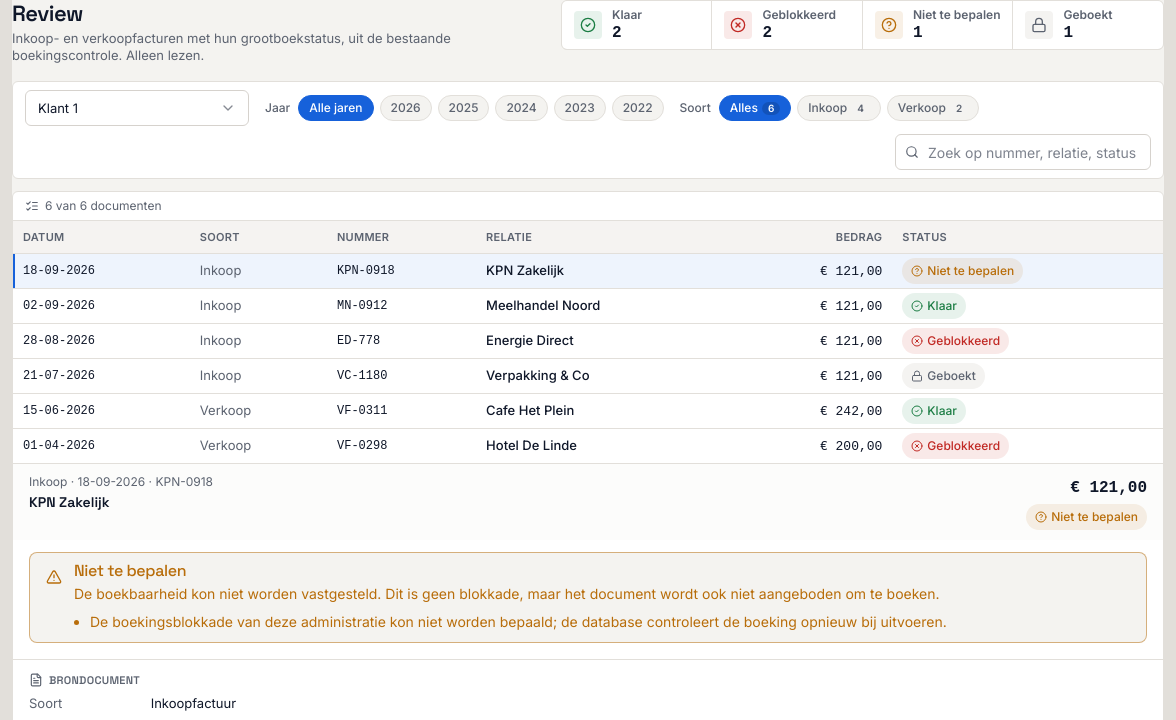
Scenario: Review — het paneel volgt de gefilterde wachtrij › 10. statusfilter: een weggefilterde selectie wijkt voor het eerste zichtbare document
Click the button "Meelhandel Noord". click: (605, 306)
box: x1=486 y1=296 x2=724 y2=316
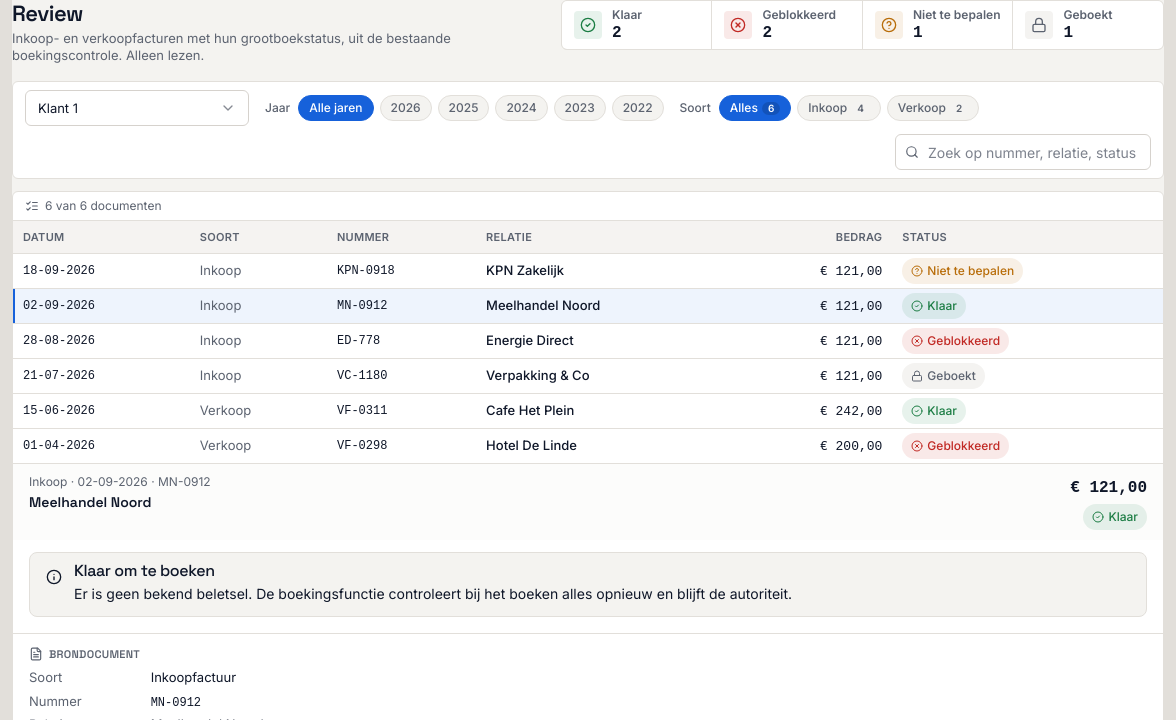
Expected: the element with test id "review-detail" shows "Meelhandel Noord", x1=29 y1=493 x2=152 y2=511
Click the button with test id "review-counter-geblokkeerd". click: (787, 25)
box: x1=712 y1=1 x2=862 y2=49
(page scrolled)
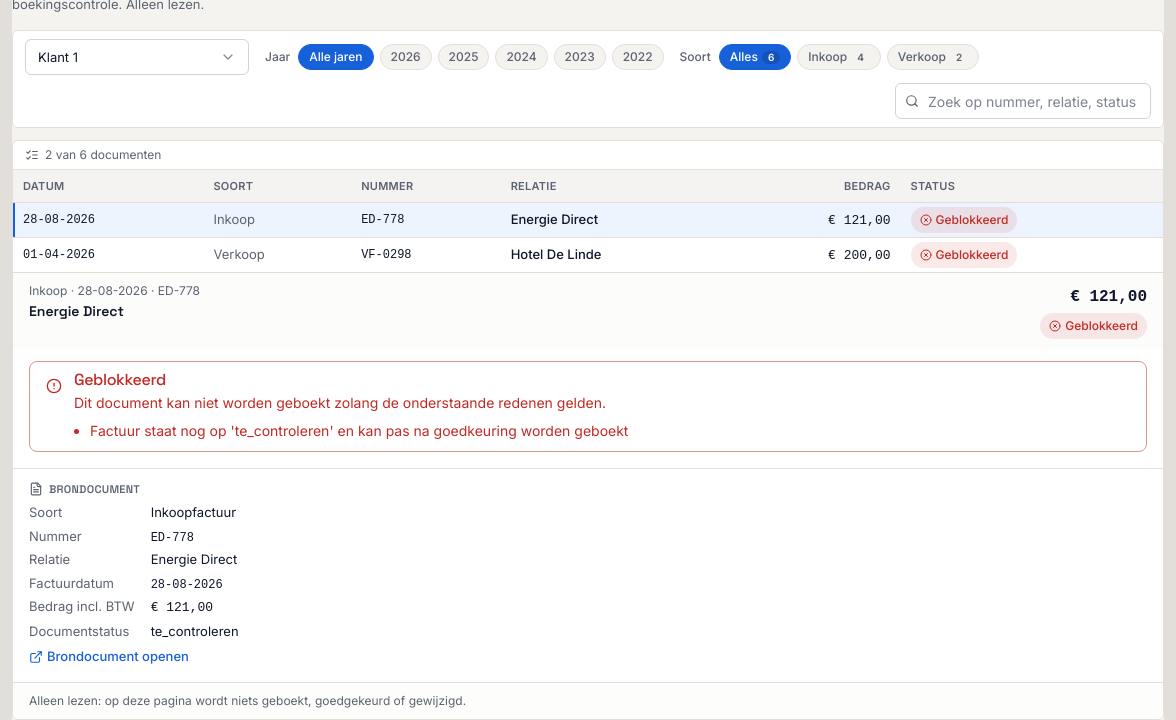
Expected: the element with test id "review-detail" shows "Energie Direct", x1=29 y1=302 x2=124 y2=320
Expected: the element with test id "review-detail" no longer shows "Meelhandel Noord"
